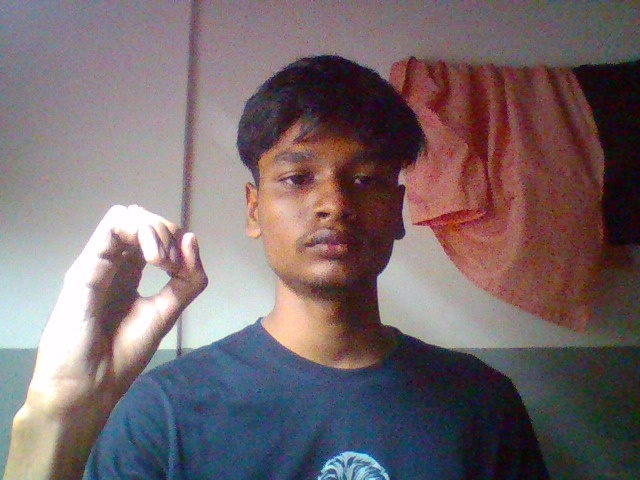O: (16, 178, 208, 455)
